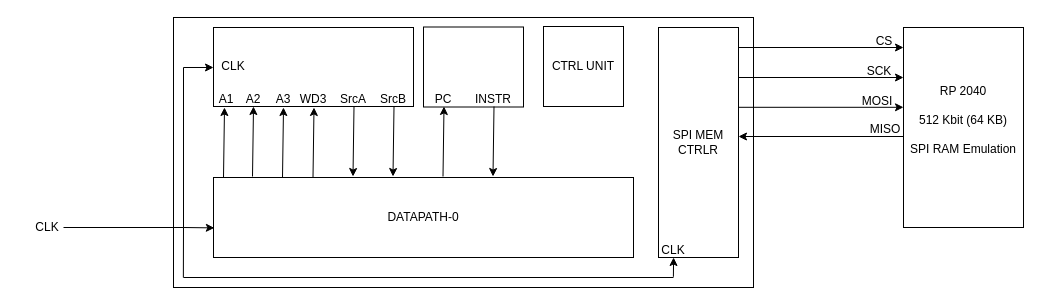
Image size: 1041x305. Some labels were removed from this diagram. The box of each missing label's shape, as (x1, y1, x2, y2) in pixels:
IMEM: (422, 26, 524, 107)
Reg File: (212, 26, 414, 106)
